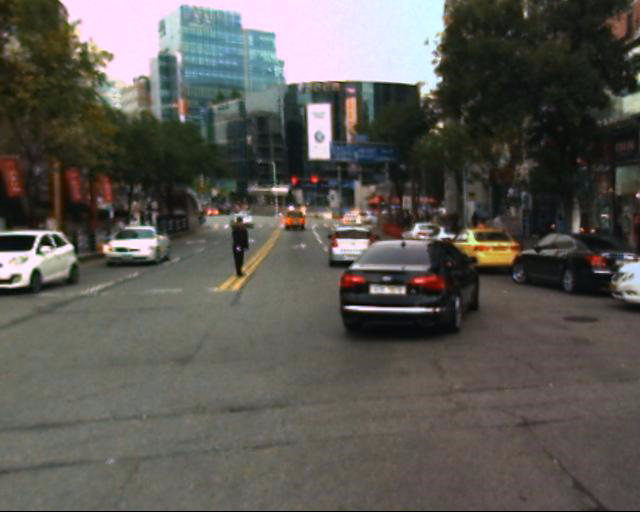person: (228, 213, 257, 284), (536, 205, 560, 250), (551, 207, 574, 249)
